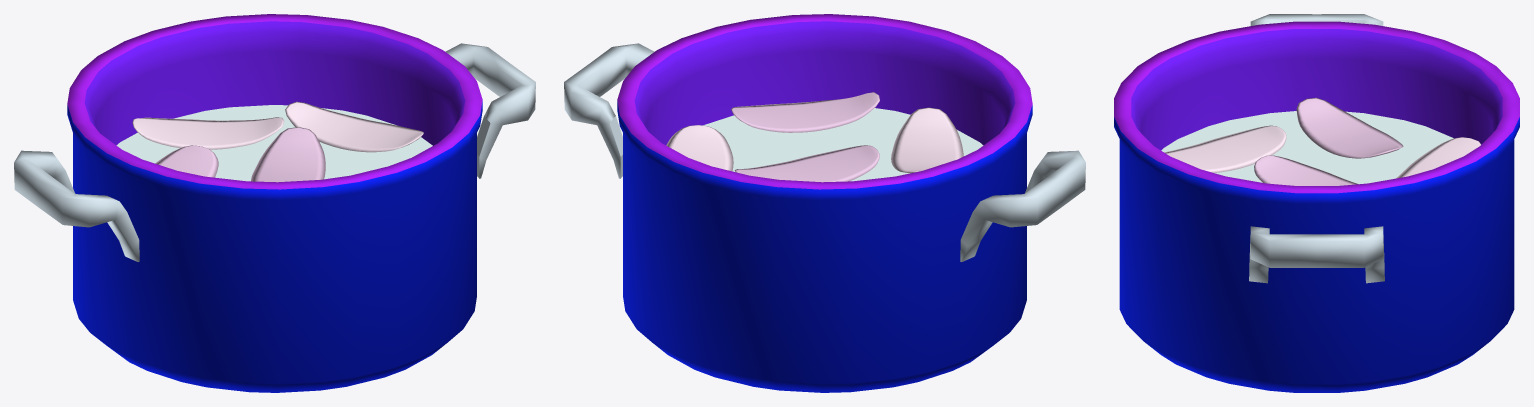
File: PottedPinkPetals.fbx
3 renders of one model, left to right at view 1: azimuth 30°, elevation 25°; view 2: azimuth 150°, elevation 25°; view 3: azimuth 270°, elevation 25°, orthographic.
Visible parts, largest first — view 1: Body.006, Handles.004, Water.001, Petel.040, Petel.041, Petel.039, Petel.036; view 2: Body.006, Handles.004, Water.001, Petel.038, Petel.037, Petel.039, Petel.040; view 3: Body.006, Water.001, Handles.004, Petel.036, Petel.037, Petel.039, Petel.041.
Part boxes in pixels (bbox=[...]): Body.006: bbox=[67, 14, 482, 392]; Handles.004: bbox=[14, 43, 535, 261]; Water.001: bbox=[116, 105, 432, 181]; Petel.040: bbox=[285, 101, 423, 152]; Petel.041: bbox=[132, 117, 284, 149]; Petel.039: bbox=[251, 127, 325, 182]; Petel.036: bbox=[155, 145, 218, 177]; Body.006: bbox=[617, 14, 1032, 392]; Handles.004: bbox=[564, 43, 1085, 261]; Water.001: bbox=[703, 108, 983, 181]; Petel.038: bbox=[731, 92, 879, 132]; Petel.037: bbox=[891, 107, 963, 173]; Petel.039: bbox=[734, 145, 879, 182]; Petel.040: bbox=[666, 125, 733, 171]; Body.006: bbox=[1114, 21, 1519, 392]; Water.001: bbox=[1161, 111, 1453, 184]; Handles.004: bbox=[1249, 14, 1384, 283]; Petel.036: bbox=[1296, 97, 1403, 158]; Petel.037: bbox=[1164, 125, 1286, 172]; Petel.039: bbox=[1254, 155, 1358, 185]; Petel.041: bbox=[1396, 137, 1480, 178].
Bounding box in the file's own units: 83.38 × 35.99 × 62.94.
